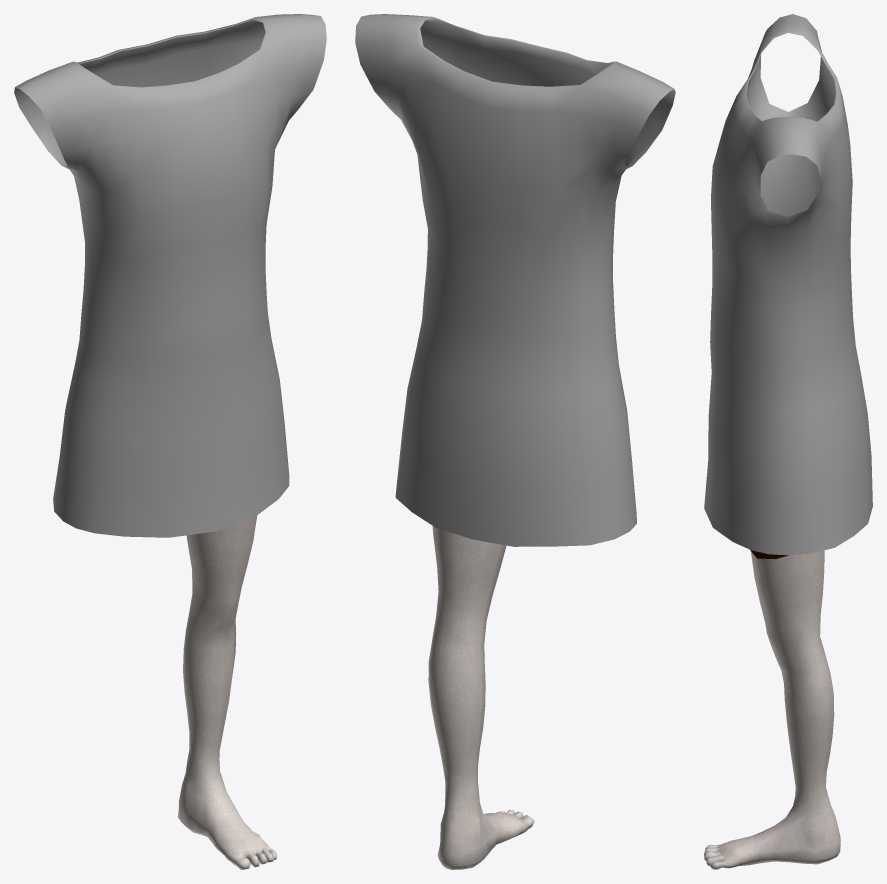
Rendered from Feet.fbx.
The picture shows the model from 3 angles, left to right: view 1: azimuth 30°, elevation 25°; view 2: azimuth 150°, elevation 25°; view 3: azimuth 270°, elevation 25°; orthographic projection. The views are drawn at different scales.
Parts seen in each view (by area): view 1: Patient_Augenlos_Test1_Mesh_002, ZBrush_defualt_group_000; view 2: Patient_Augenlos_Test1_Mesh_002, ZBrush_defualt_group_000; view 3: Patient_Augenlos_Test1_Mesh_002, ZBrush_defualt_group_000.
Boxes of the visible parts, left/top/right/bottom form: Patient_Augenlos_Test1_Mesh_002: left=14, top=14, right=326, bottom=537; ZBrush_defualt_group_000: left=178, top=515, right=276, bottom=869; Patient_Augenlos_Test1_Mesh_002: left=355, top=14, right=675, bottom=546; ZBrush_defualt_group_000: left=428, top=526, right=534, bottom=869; Patient_Augenlos_Test1_Mesh_002: left=704, top=14, right=872, bottom=555; ZBrush_defualt_group_000: left=704, top=550, right=840, bottom=869.
Bounding box in the file's own units: 58.67 × 150 × 29.89.
